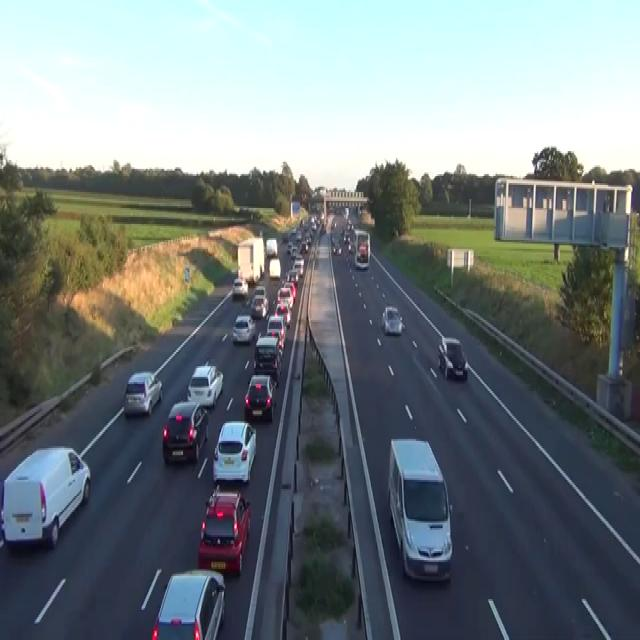Car: (0, 444, 91, 550), (151, 567, 225, 638), (197, 487, 251, 574), (162, 400, 209, 464), (212, 420, 256, 486), (123, 370, 162, 416), (186, 363, 223, 407), (244, 374, 275, 422), (253, 334, 282, 384), (437, 336, 468, 380), (381, 304, 405, 334), (266, 314, 286, 348), (231, 315, 255, 343), (266, 329, 284, 359), (250, 294, 268, 318), (274, 302, 291, 327), (276, 284, 293, 308), (232, 277, 248, 297), (285, 268, 299, 286), (293, 258, 304, 277), (285, 281, 296, 300), (253, 284, 266, 298), (332, 240, 342, 254), (290, 245, 300, 258), (310, 215, 317, 229), (343, 231, 350, 244), (301, 240, 308, 252), (346, 219, 353, 229), (320, 222, 326, 233), (282, 231, 288, 242), (348, 242, 354, 252), (286, 242, 292, 252)
Truck: (387, 437, 453, 583), (237, 234, 264, 284), (354, 230, 370, 268), (266, 236, 277, 258), (290, 201, 300, 219)
